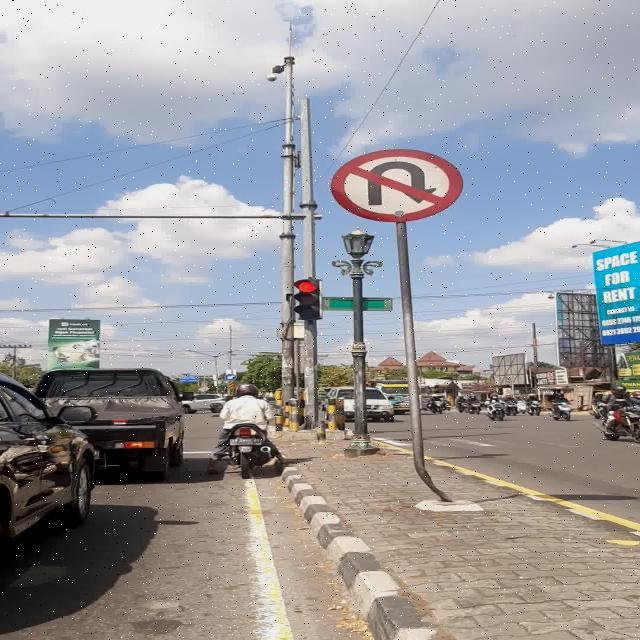Dilarang Putar Balik: (330, 148, 464, 222)
